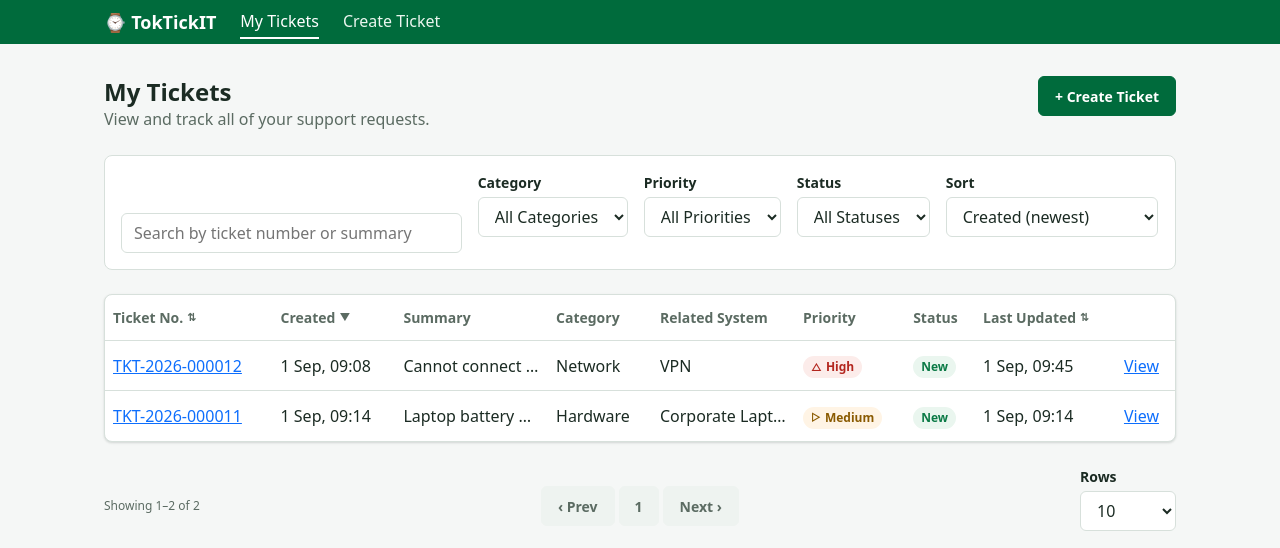
C-26 My Tickets no-results state › shows NoResultsState with Clear filters when an active filter matches nothing, keeping the filter bar visible and populated
Expected: the table is shown, x1=105 y1=295 x2=1175 y2=441
Select "Network" in the dropdown labelled "Category". click: (553, 217)
box: x1=478 y1=197 x2=628 y2=237
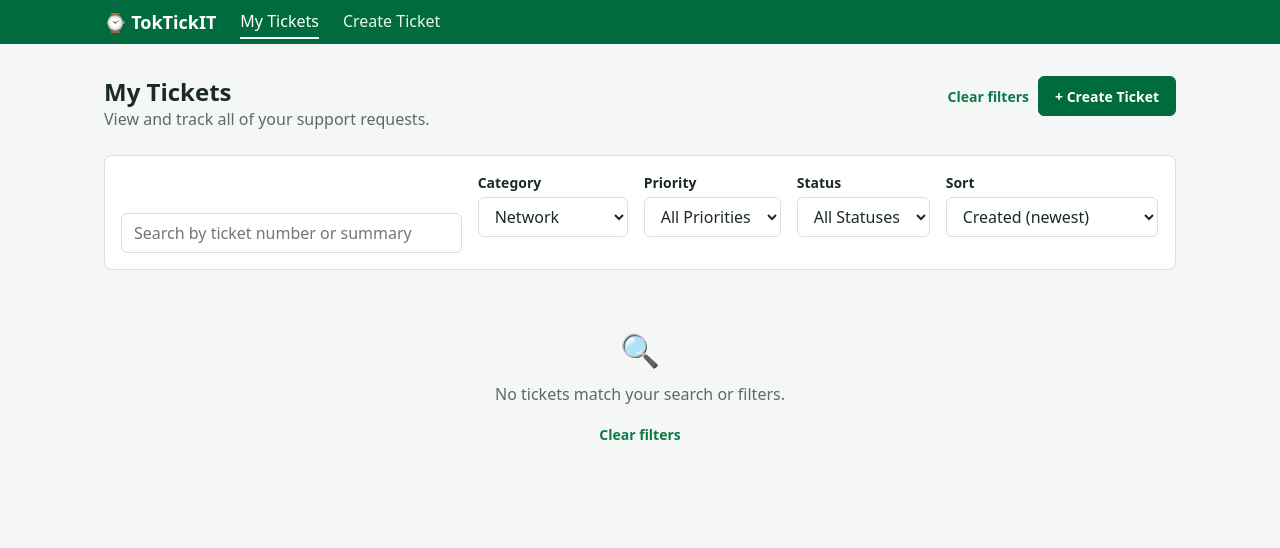
Expected: the search field labelled "Search" is shown, x1=121 y1=213 x2=462 y2=253
Now the text "No tickets match your search or filters." is shown, box x1=495 y1=382 x2=785 y2=406
Now the button "Clear filters" below "No tickets match your search or filters." is shown
// Clear filters recovers the list.
Click the button "Clear filters" below "No tickets match your search or filters.". click: (640, 434)
box: x1=594 y1=414 x2=686 y2=454
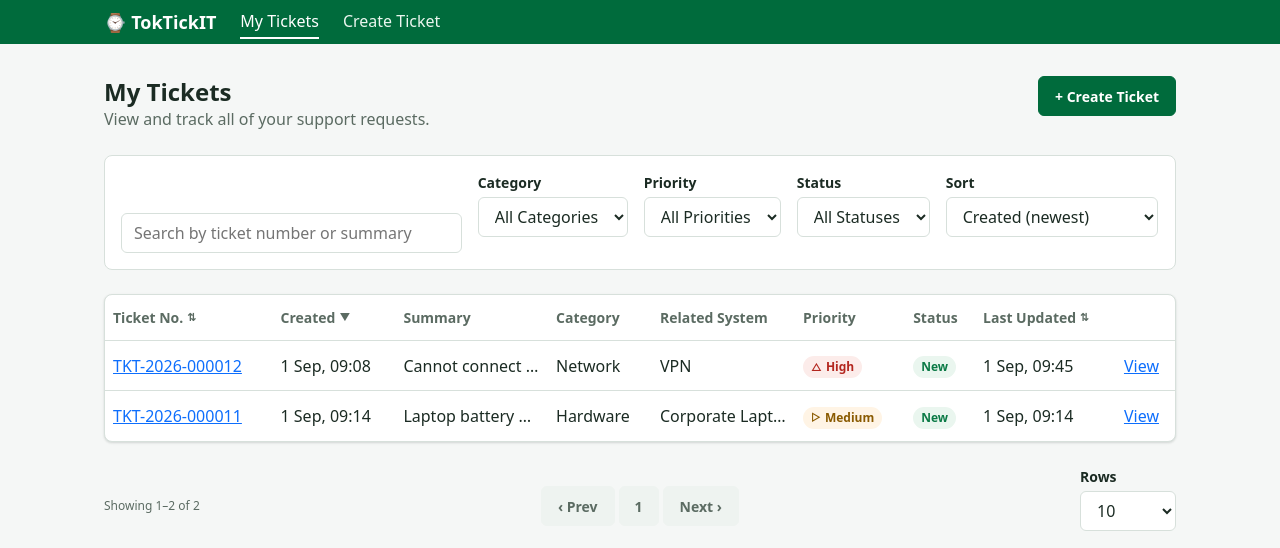
Now the table is shown, box x1=105 y1=295 x2=1175 y2=441
Now the dropdown labelled "Category" shows "All Categories", box x1=478 y1=197 x2=628 y2=237
